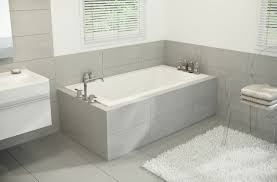bathub: (60, 64, 230, 160)
